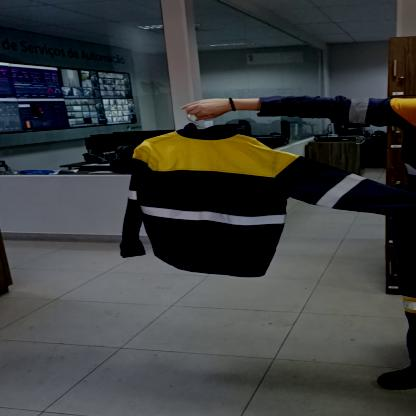C_eletrica: (117, 124, 412, 280)
